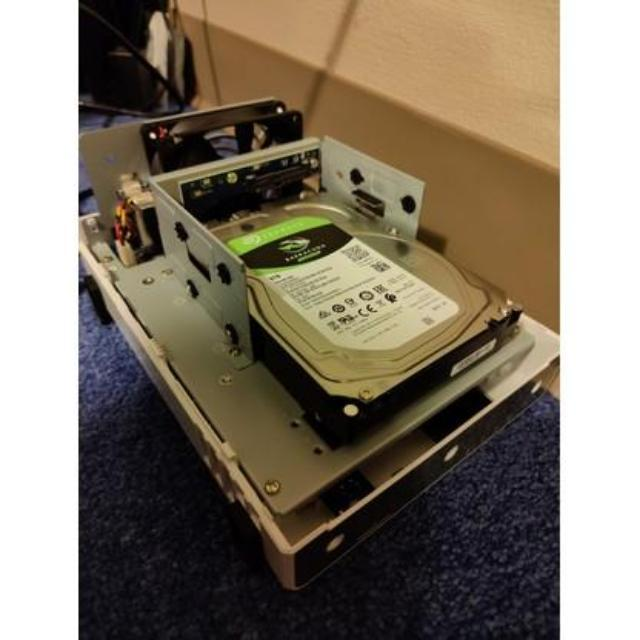DISK: (202, 184, 526, 426)
